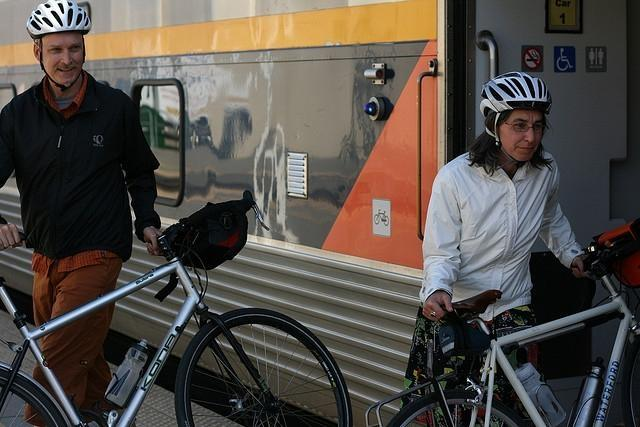bicycle: (2, 182, 354, 422), (365, 223, 640, 427)
